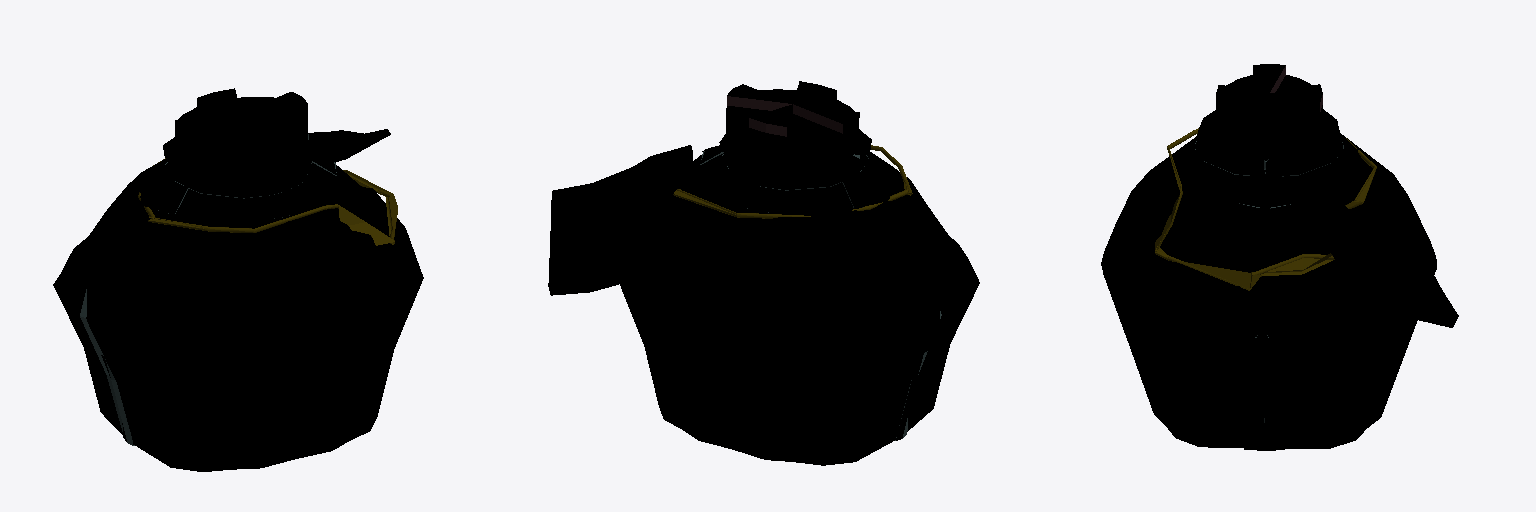
File: potionbottleexport.obj
3 renders of one model, left to right at view 1: azimuth 30°, elevation 25°; view 2: azimuth 150°, elevation 25°; view 3: azimuth 270°, elevation 25°, orthographic.
Visible parts, largest first — view 1: crock1 paper bottle1, crock1 paper, paper string1, paper; view 2: crock1 paper bottle1, paper, crock1 paper, paper string1; view 3: crock1 paper bottle1, paper, crock1 paper, paper string1.
Part boxes in pixels (bbox=[...]): crock1 paper bottle1: bbox=[53, 134, 423, 471]; crock1 paper: bbox=[175, 88, 307, 173]; paper string1: bbox=[138, 158, 397, 245]; paper: bbox=[308, 129, 390, 161]; crock1 paper bottle1: bbox=[620, 129, 979, 465]; paper: bbox=[548, 145, 692, 295]; crock1 paper: bbox=[726, 81, 859, 165]; paper string1: bbox=[673, 145, 912, 218]; crock1 paper bottle1: bbox=[1101, 109, 1436, 450]; paper: bbox=[1291, 189, 1458, 327]; crock1 paper: bbox=[1216, 64, 1322, 163]; paper string1: bbox=[1155, 128, 1376, 290].
Size of the model in its own units: 0.9307 by 0.7791 by 0.8254.